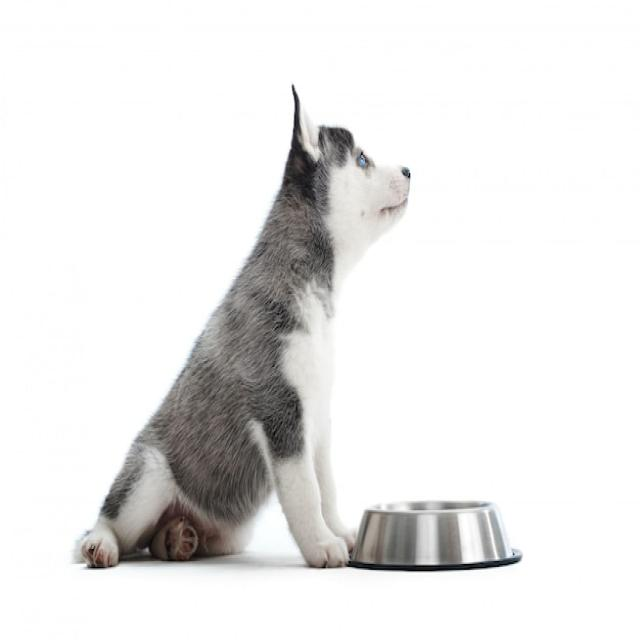Dog: (73, 80, 411, 567)
